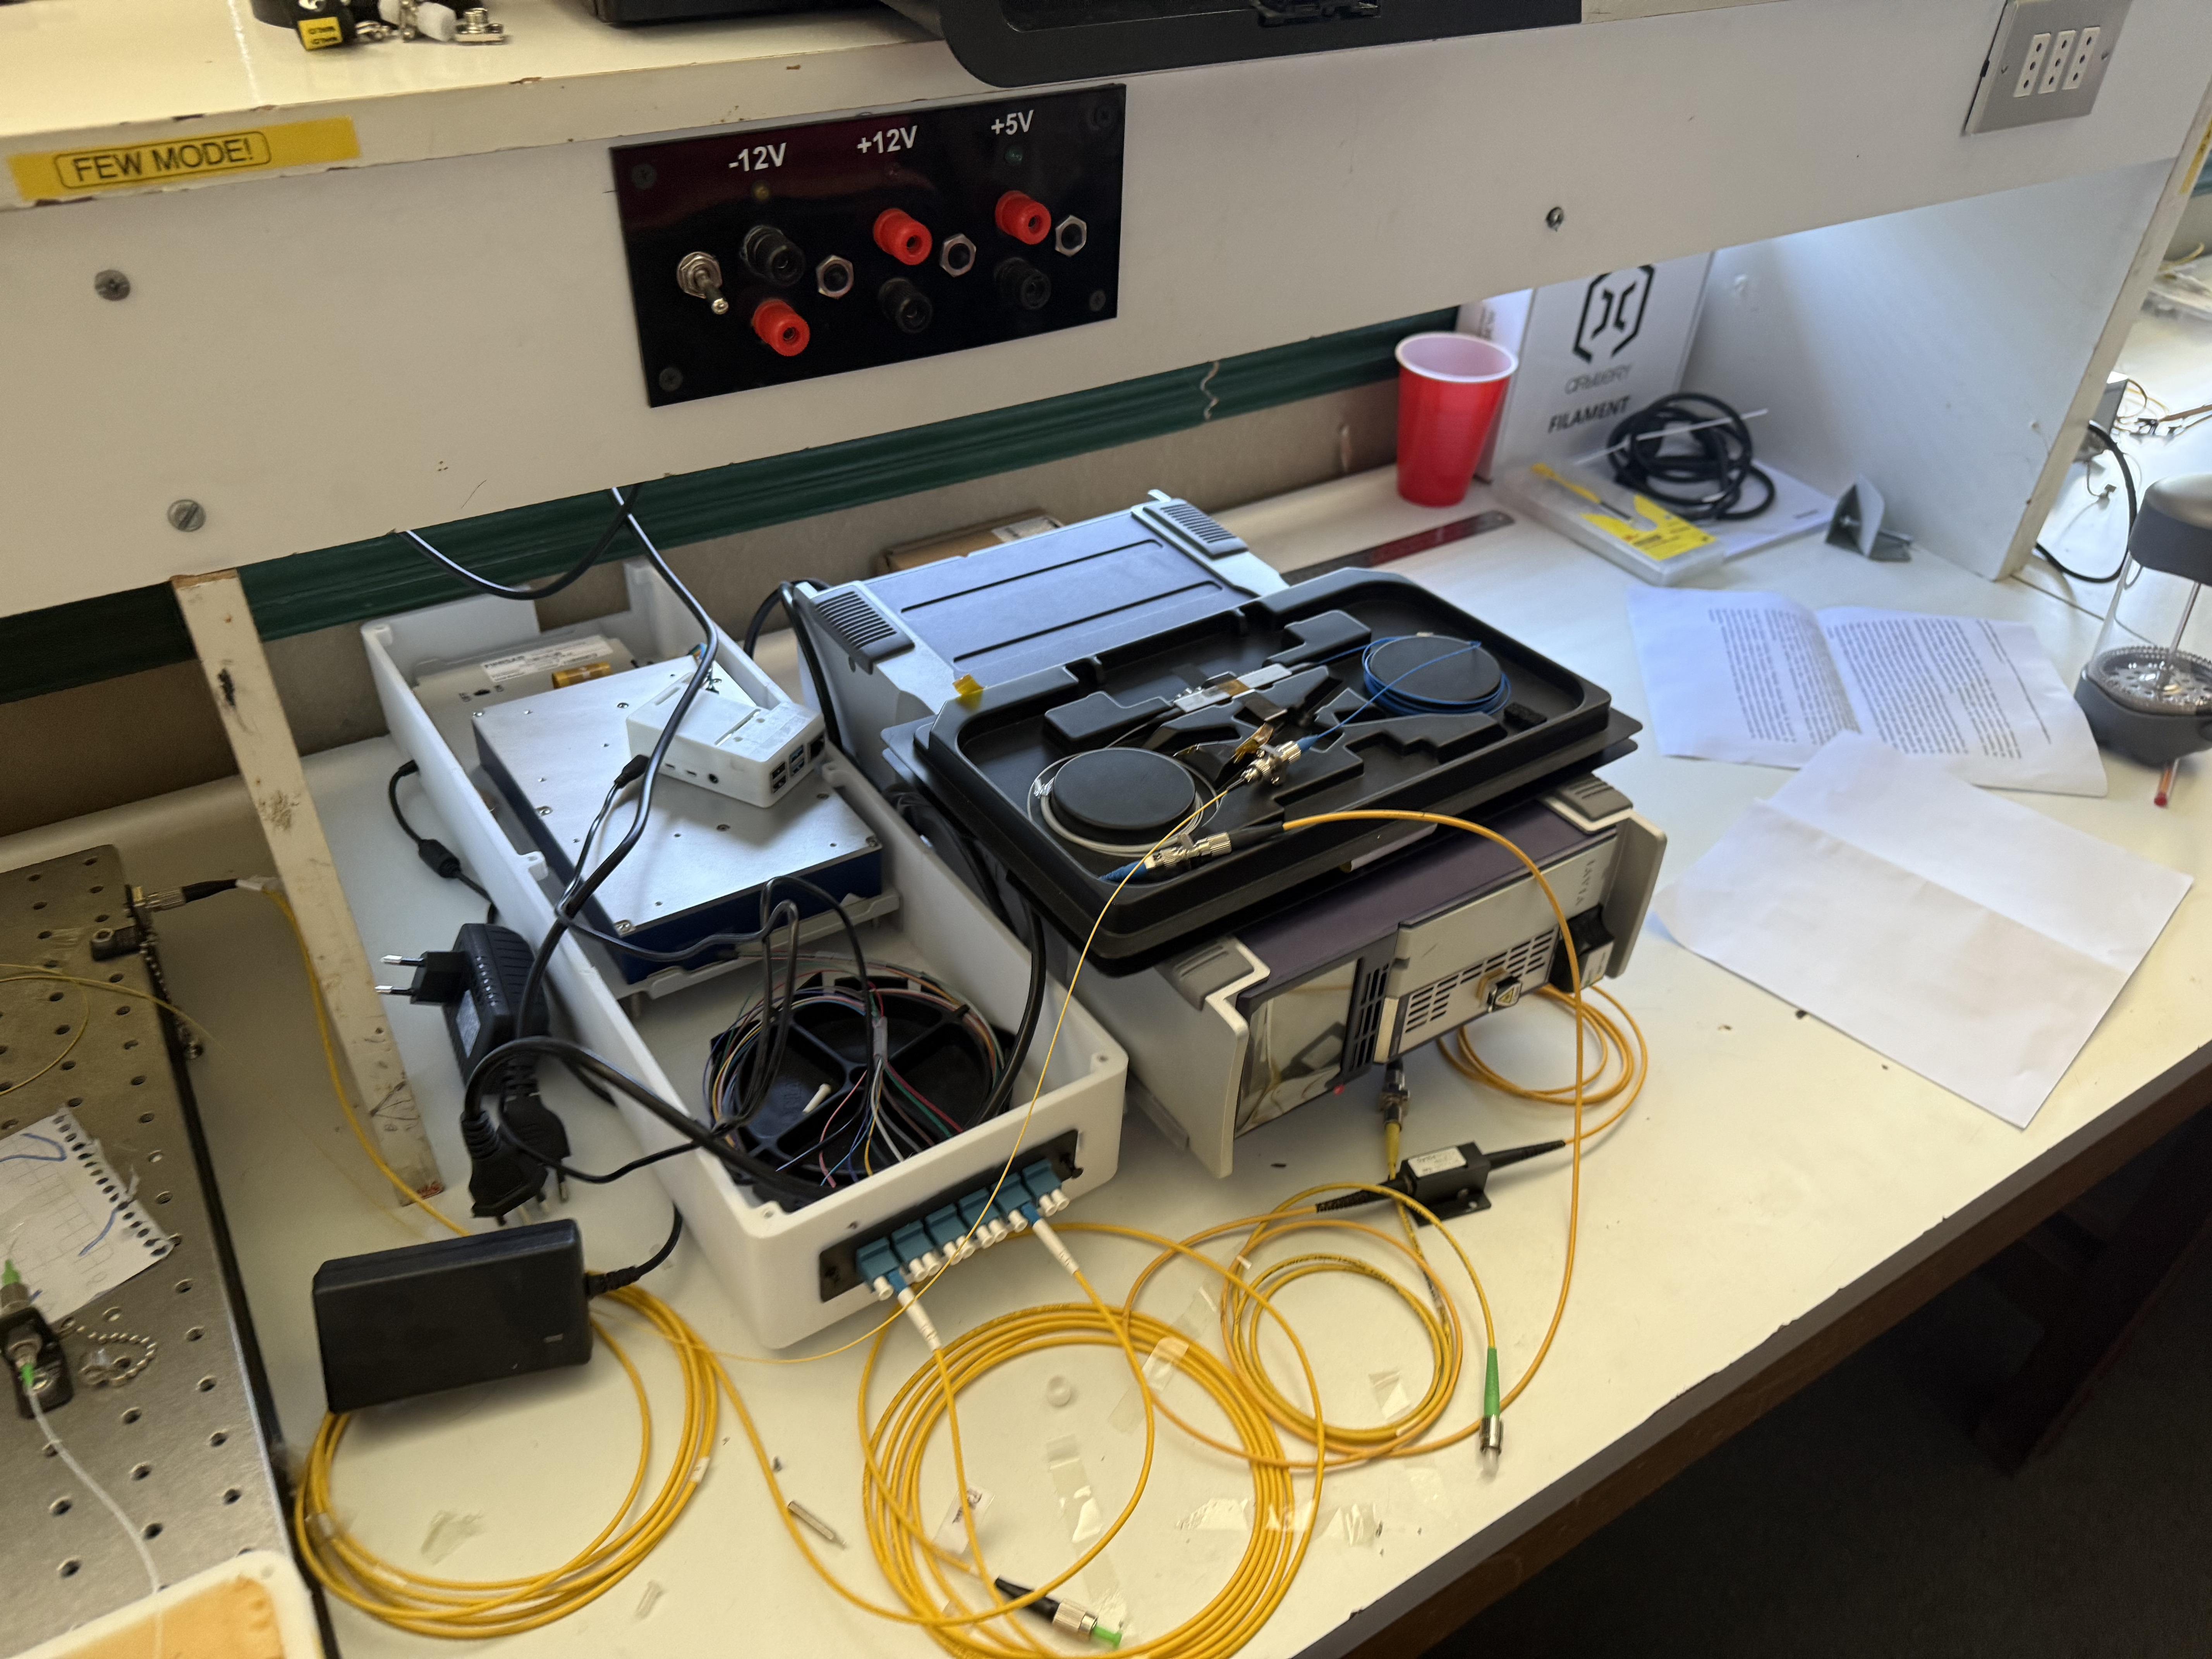fiber_cable: (314, 1286, 1651, 1659)
laser: (709, 465, 1688, 1133)
